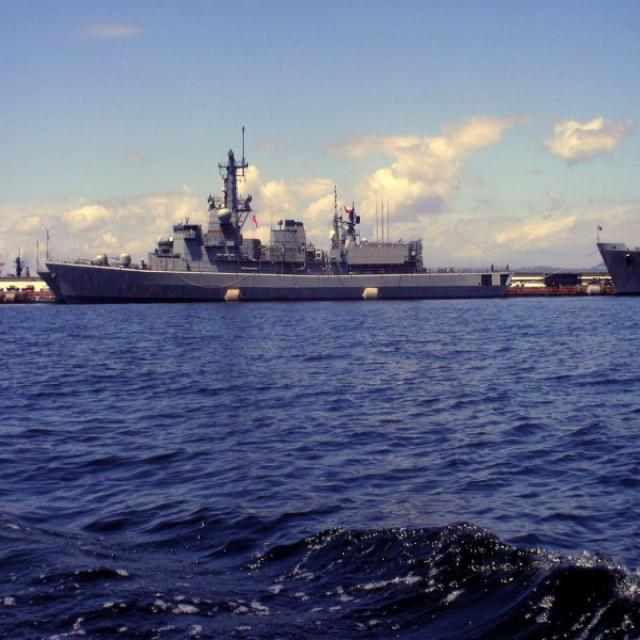Fragata: (37, 107, 523, 304)
